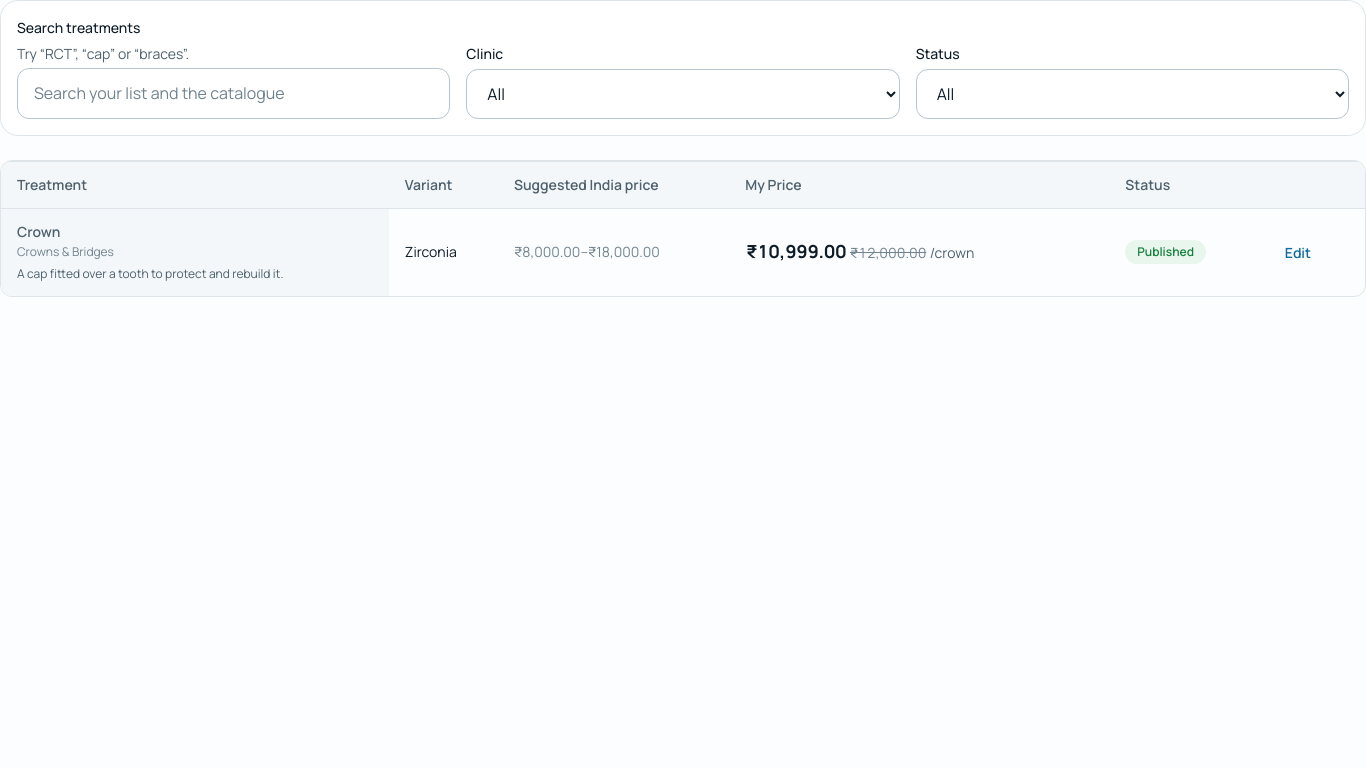
Scenario: descriptions (§9, §20) › offers the master description as read-only reference in the editor
This screenshot has width=1366, height=768.
What coordinates should you click on to do the following:
click the button "Edit"
I would click on:
 (1298, 252)
Its box is [1272,234,1324,270].
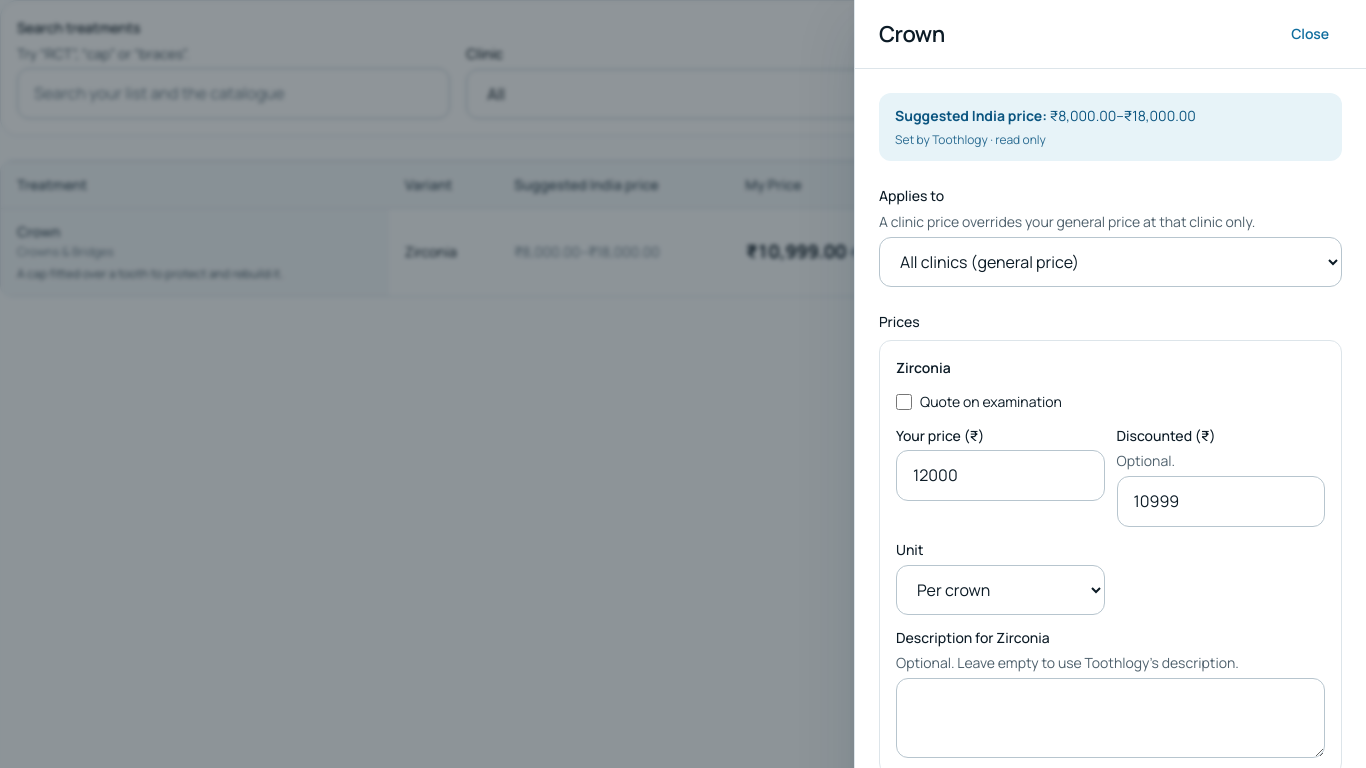
Expected: the text "Optional. Leave empty to use Toothlogy's description." is shown, [896,653,1239,672]
